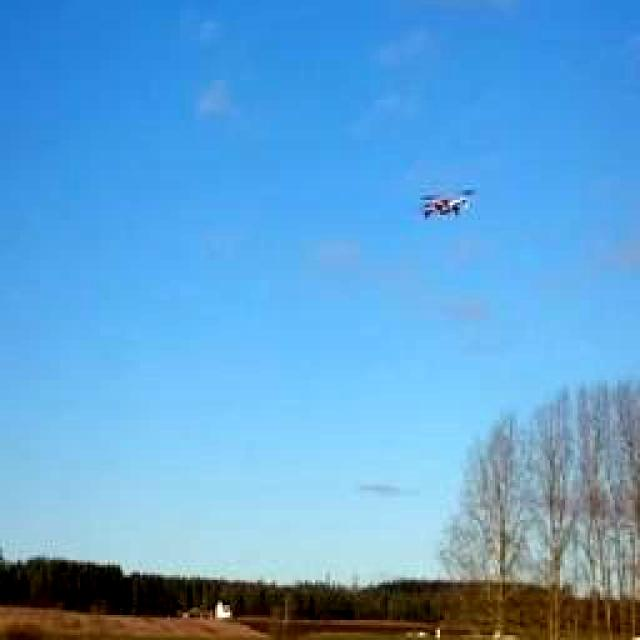bird: (420, 171, 478, 226)
